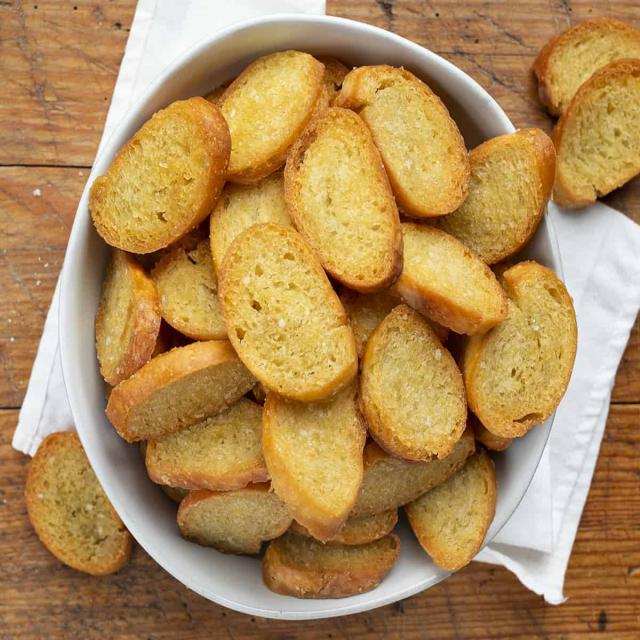Bread: (218, 223, 358, 401), (89, 97, 231, 254), (284, 108, 404, 292), (461, 261, 578, 438), (360, 304, 468, 462), (262, 379, 366, 541), (438, 128, 556, 264), (25, 432, 132, 575), (106, 341, 256, 442), (360, 81, 470, 218), (218, 50, 324, 184), (552, 59, 640, 208), (391, 223, 508, 334), (145, 398, 269, 490), (405, 448, 496, 571), (534, 18, 640, 116), (262, 531, 400, 599), (95, 249, 161, 386), (210, 170, 292, 272), (178, 482, 292, 554), (151, 239, 228, 341)
